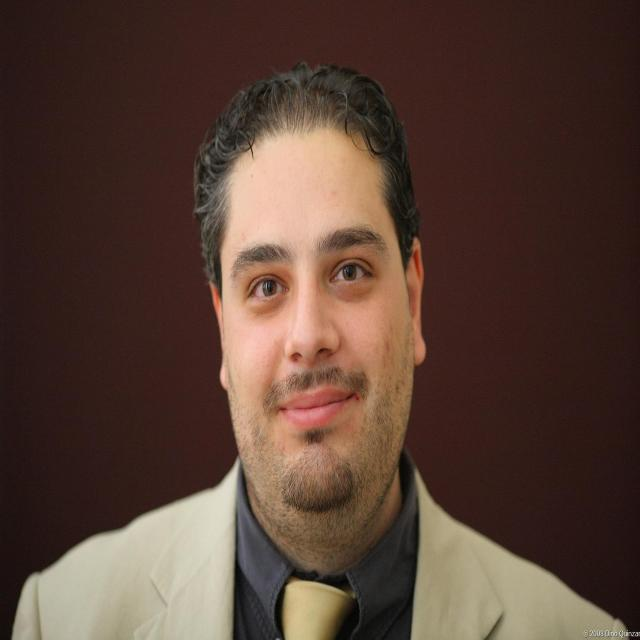Eyebags: (242, 291, 289, 322), (329, 277, 375, 306)
